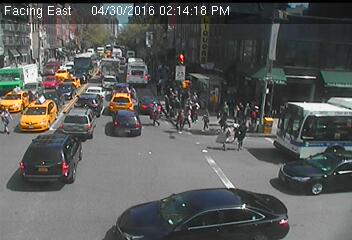neg: (257, 115, 280, 146), (298, 134, 320, 164), (323, 164, 343, 191)
pos: (196, 106, 216, 134)
